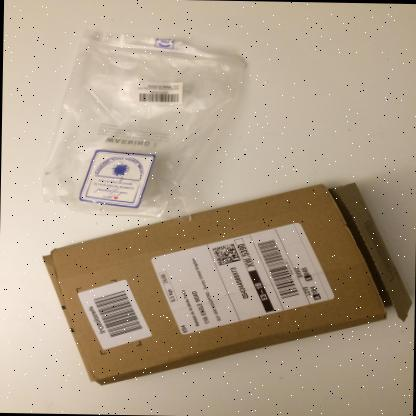Corrugated carton: (41, 182, 412, 385)
Plastic film: (41, 27, 245, 221)
